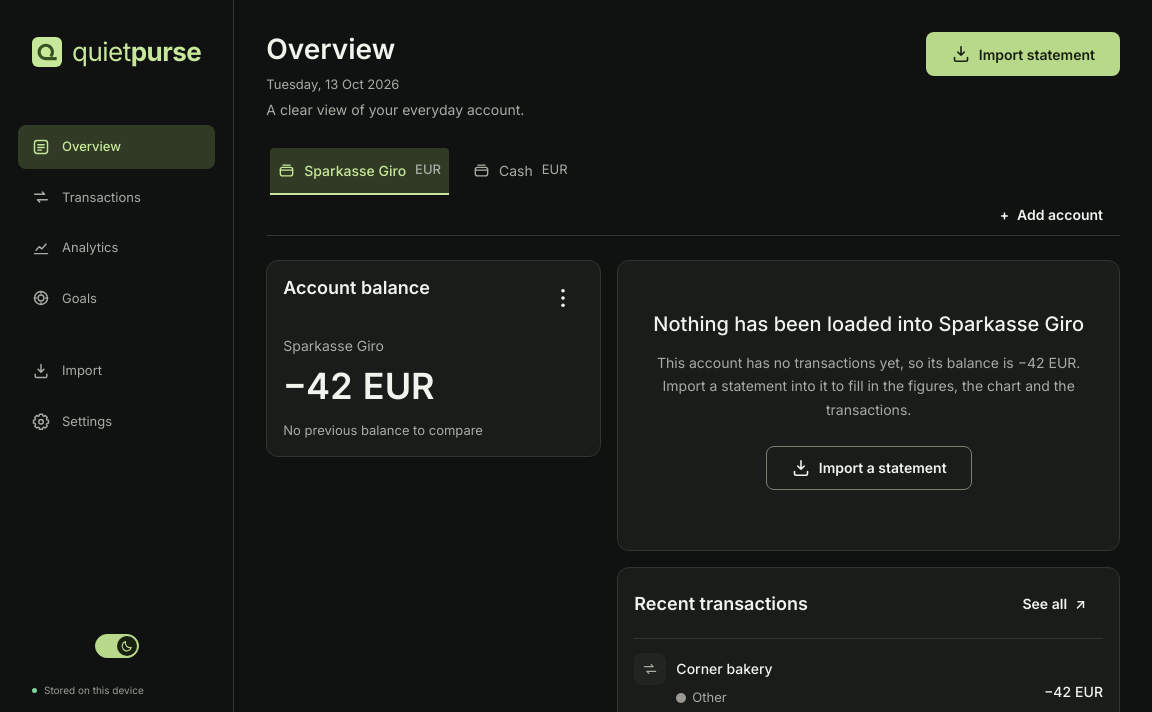
removal data revision › re-reads every mounted screen when an account is hidden
Check: the element named "Balance of Sparkasse Giro" is shown, box 266,260 -> 601,457
Click the link "Transactions".
click(86, 197)  # box 32,188 -> 141,206
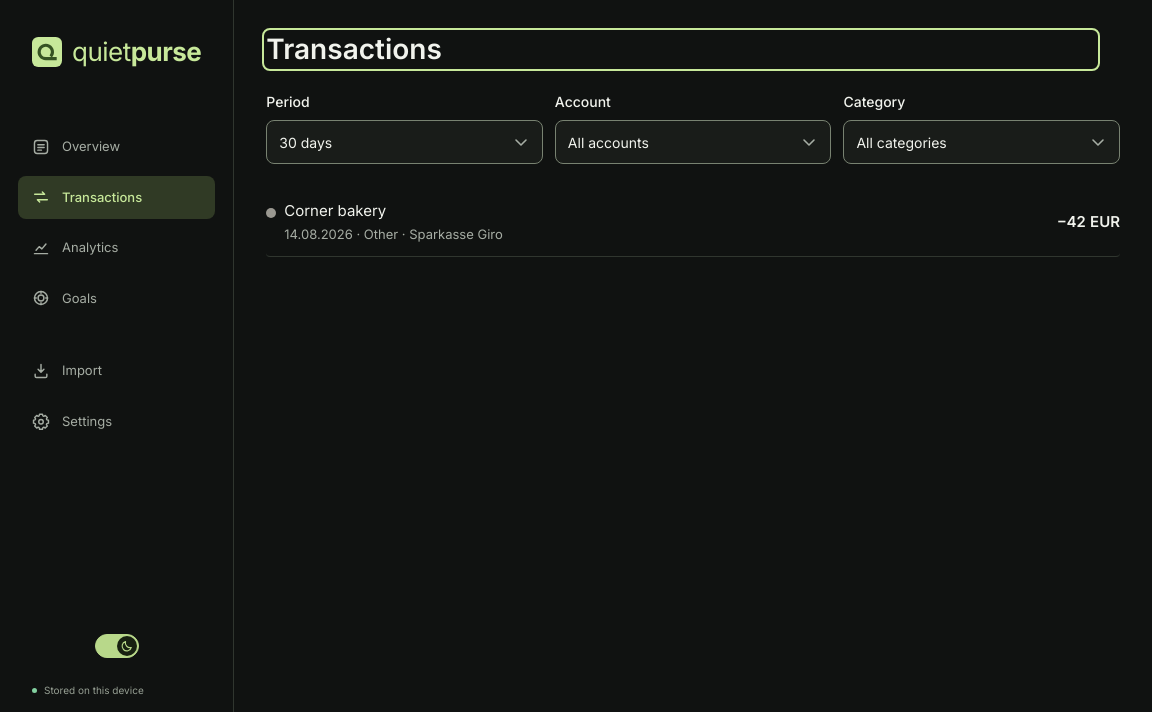
Check: the text "Corner bakery" is shown, box 284,201 -> 386,220
Click the link "Overview".
click(76, 147)  # box 32,138 -> 120,156
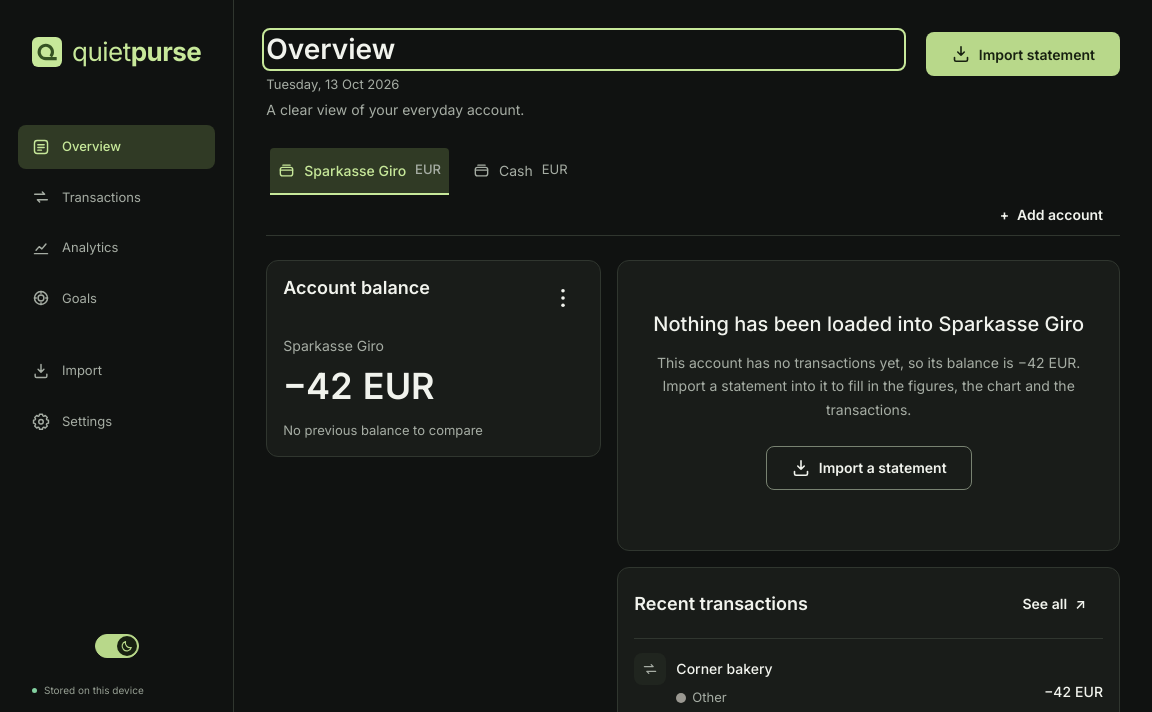
Click the button named "Account menu: Sparkasse Giro".
click(563, 298)  # box 542,276 -> 584,318
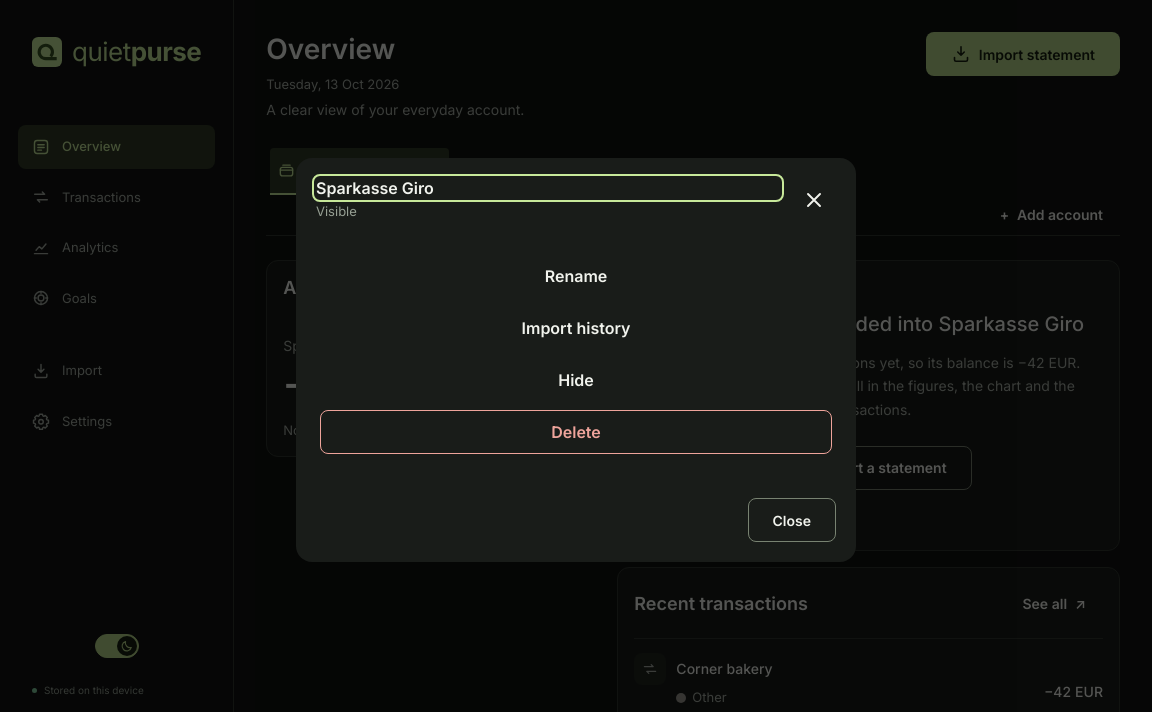
Click the button "Hide".
click(576, 380)  # box 320,358 -> 832,402
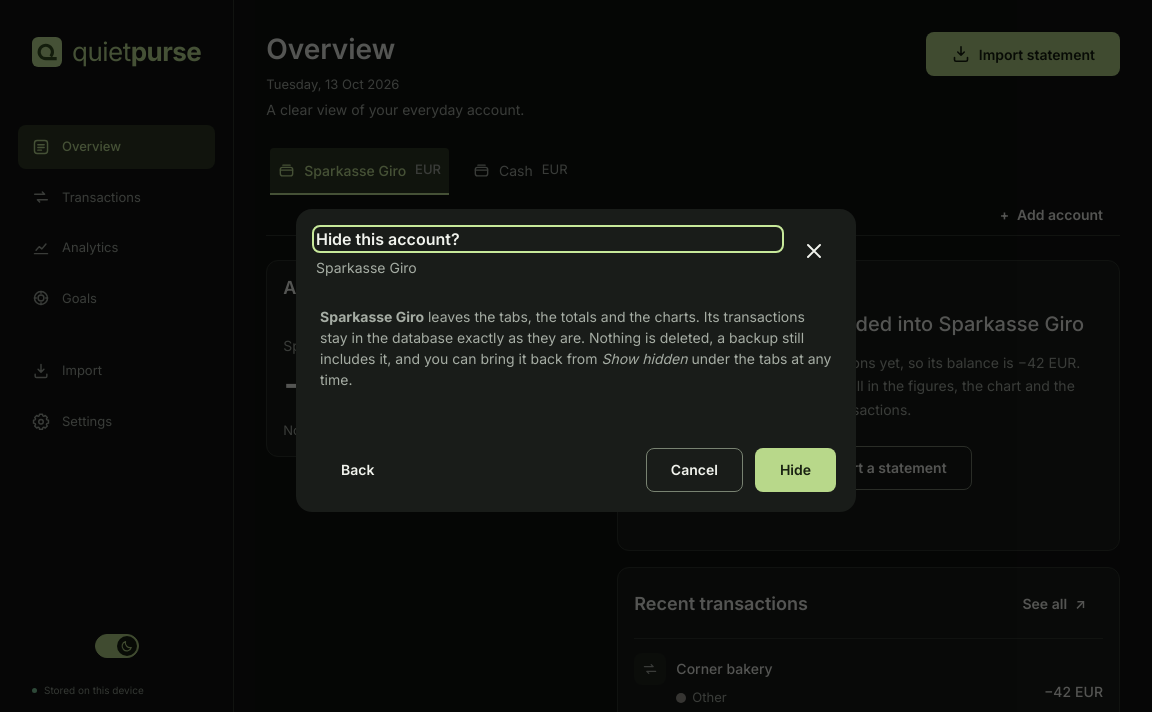
Check: the heading "Hide this account?" is shown, box 316,228 -> 460,248
Click the button "Hide".
click(795, 470)  # box 755,448 -> 836,492
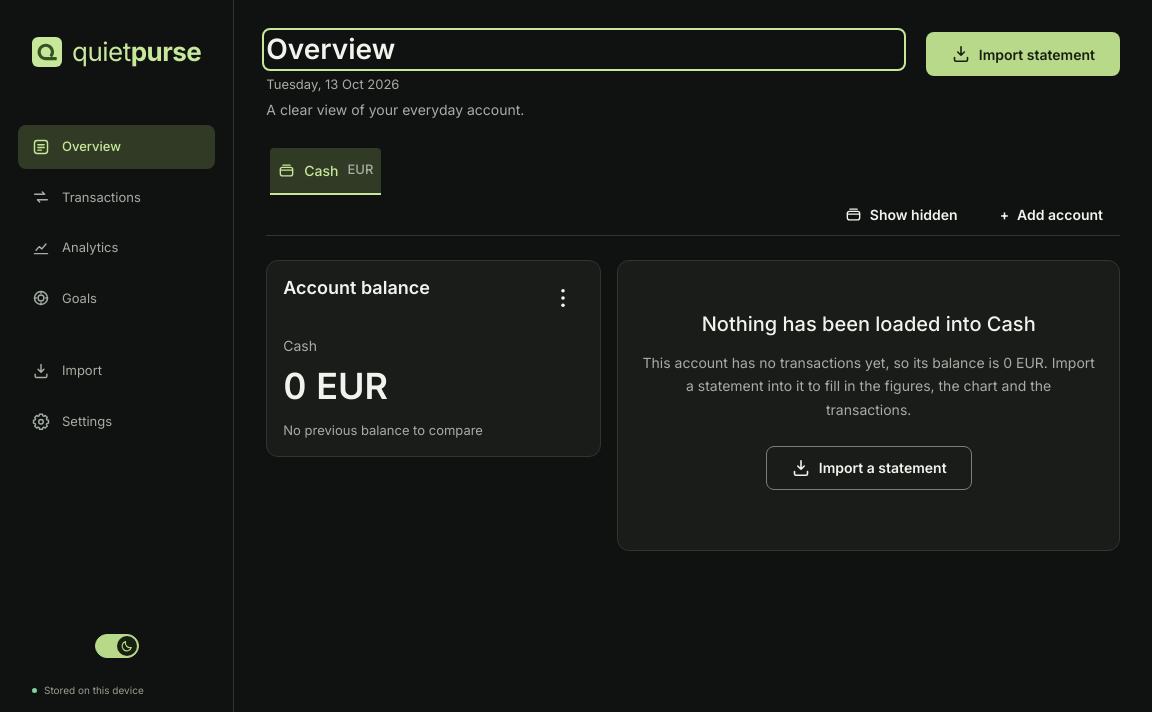
Check: the dialog is gone
Click the link "Transactions".
click(86, 197)  # box 32,188 -> 141,206
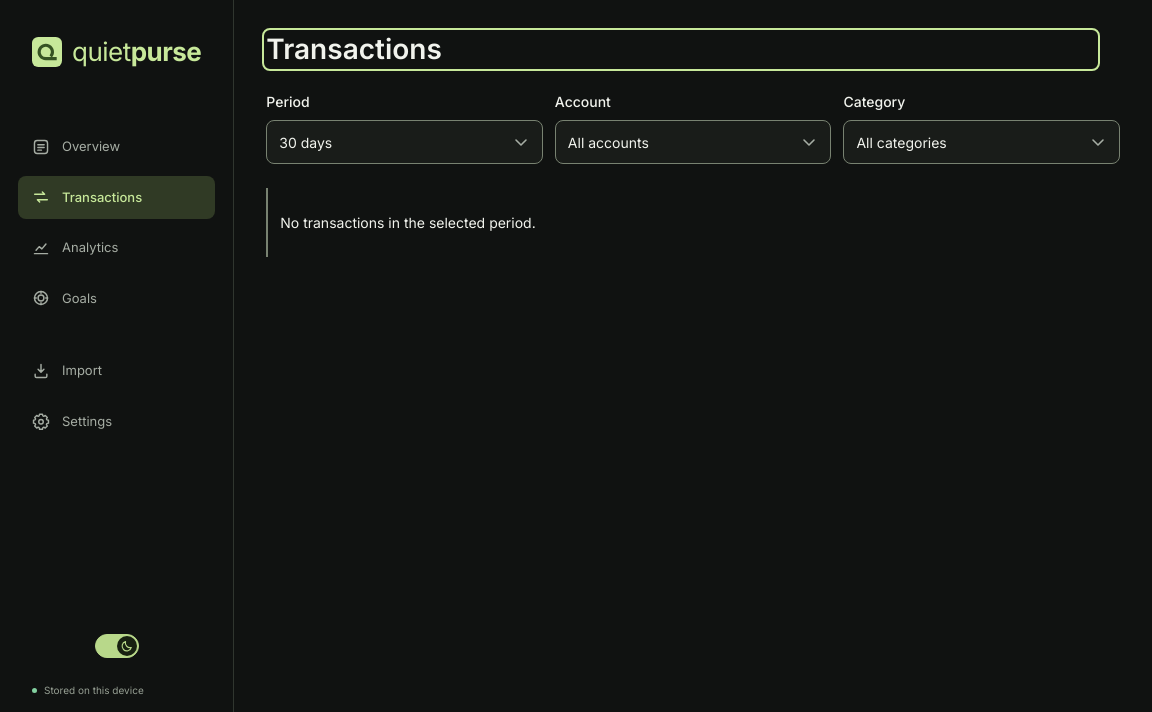
Check: the text "Corner bakery" is not shown
Check: the text "No transactions in the selected period." is shown, box 280,214 -> 536,231
